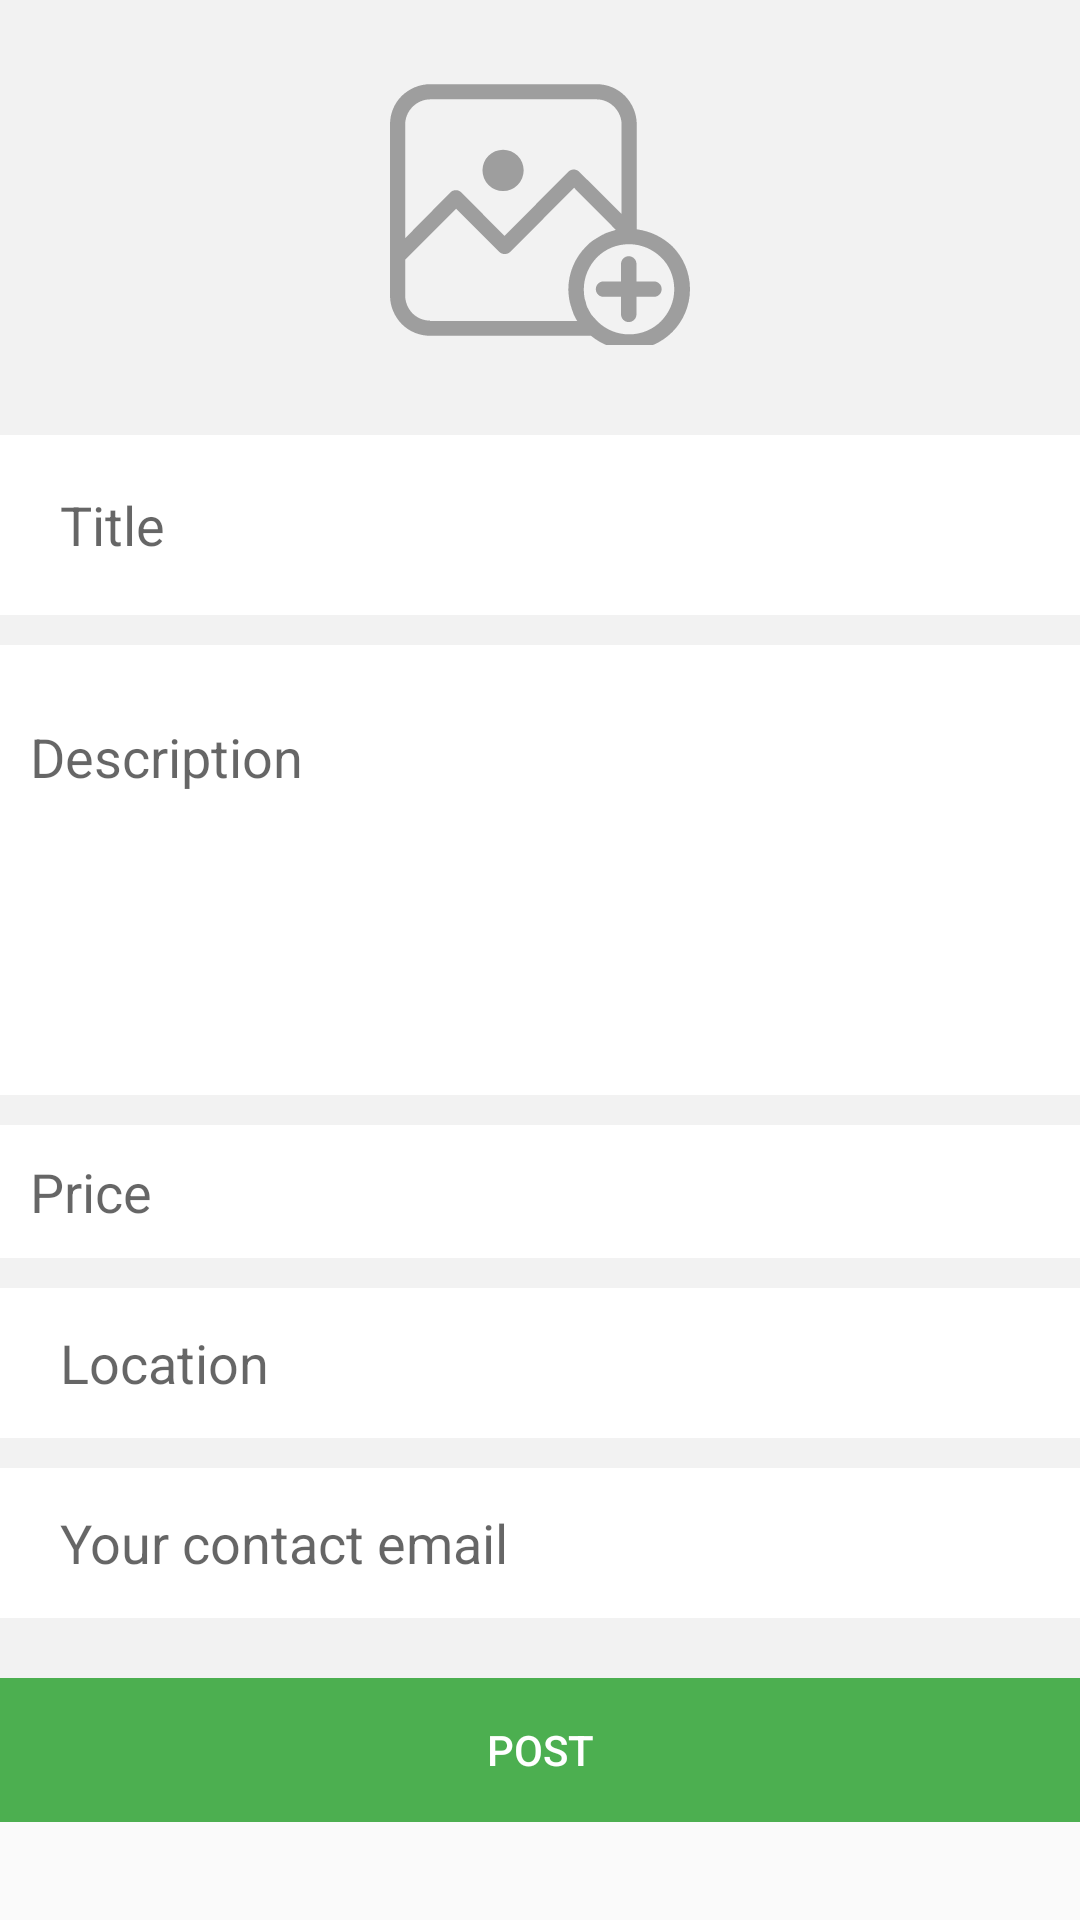

Screen size 1080x1920. Icon name, then its box in pixels as (x1, y1, x2, y2):
add: (390, 84, 690, 345)
